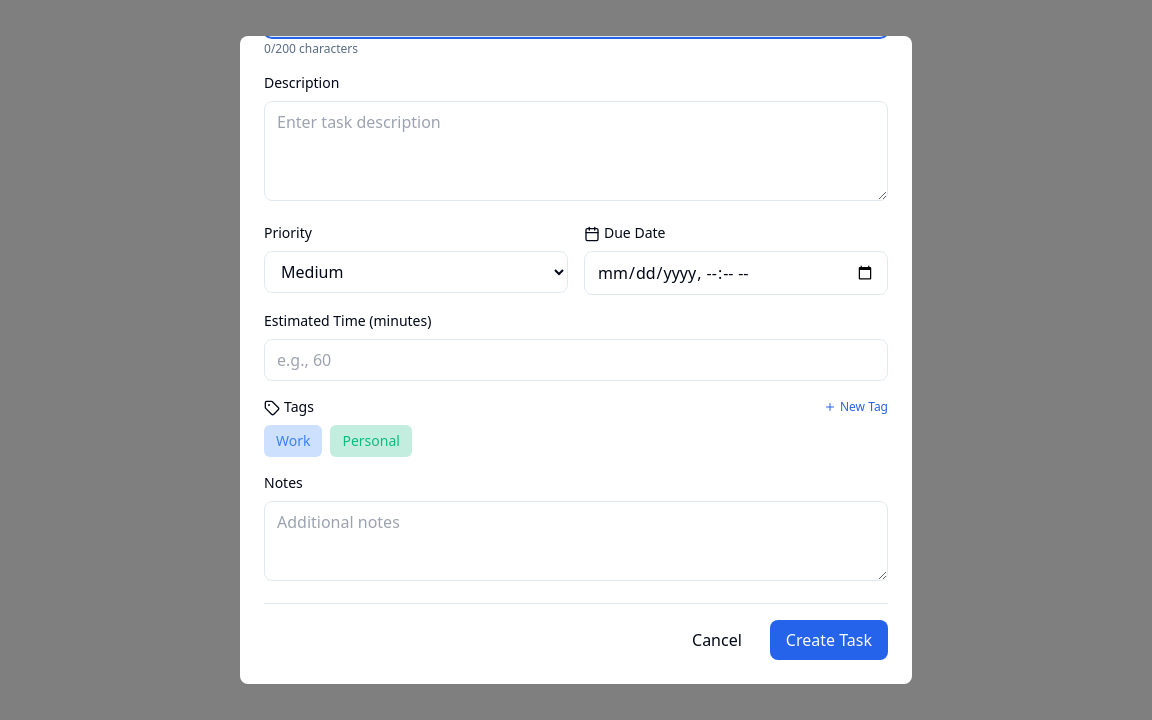
Test: TaskDialog › validates required title field
(page scrolled)
Click the button "Create Task": point(829, 640) left=770, top=620, right=888, bottom=660
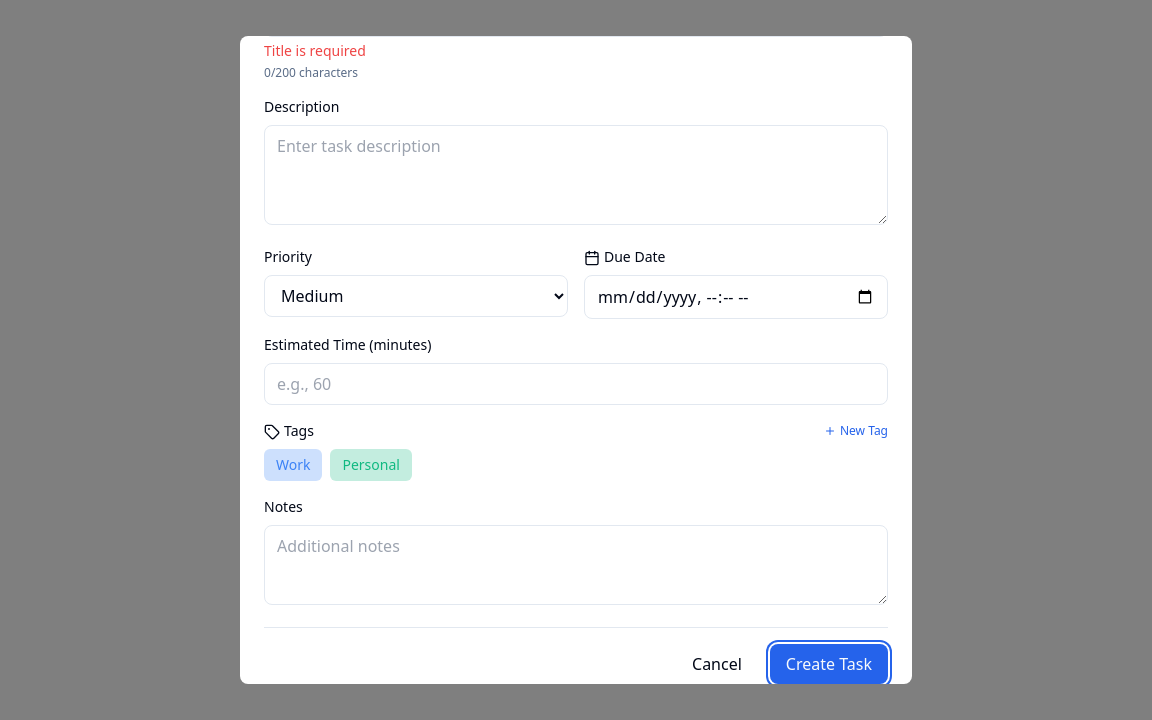
Now the text "Title is required" is shown, box left=264, top=41, right=366, bottom=60
